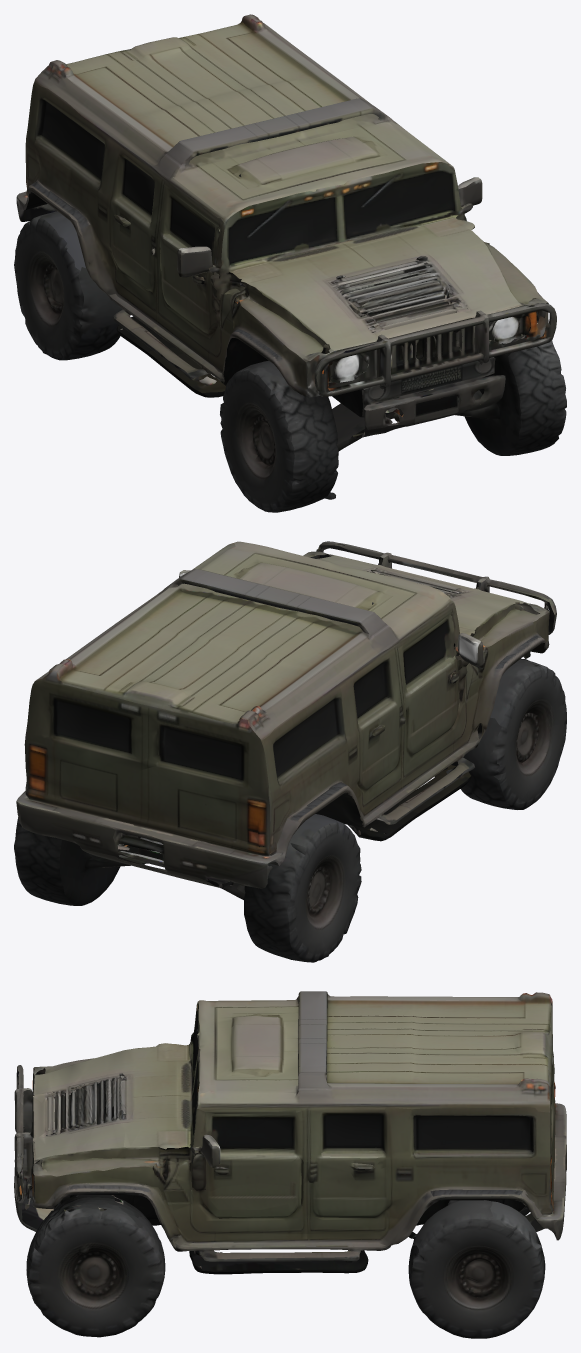
Rendered from custom_car.glb.
3 views of the same model, one above another, from view 1: azimuth 30°, elevation 25°; view 2: azimuth 150°, elevation 25°; view 3: azimuth 270°, elevation 25° (orthographic). The views are drawn at different scales.
Parts seen in each view (by area): view 1: MilitaryVehicle; view 2: MilitaryVehicle; view 3: MilitaryVehicle.
Boxes of the visible parts, left/top/right/bottom form: MilitaryVehicle: left=14, top=14, right=566, bottom=512; MilitaryVehicle: left=14, top=541, right=566, bottom=962; MilitaryVehicle: left=14, top=991, right=566, bottom=1338.
Bounding box in the file's own units: 2.75 × 2.32 × 4.7.
Materials: 1 (1 with a texture image).
